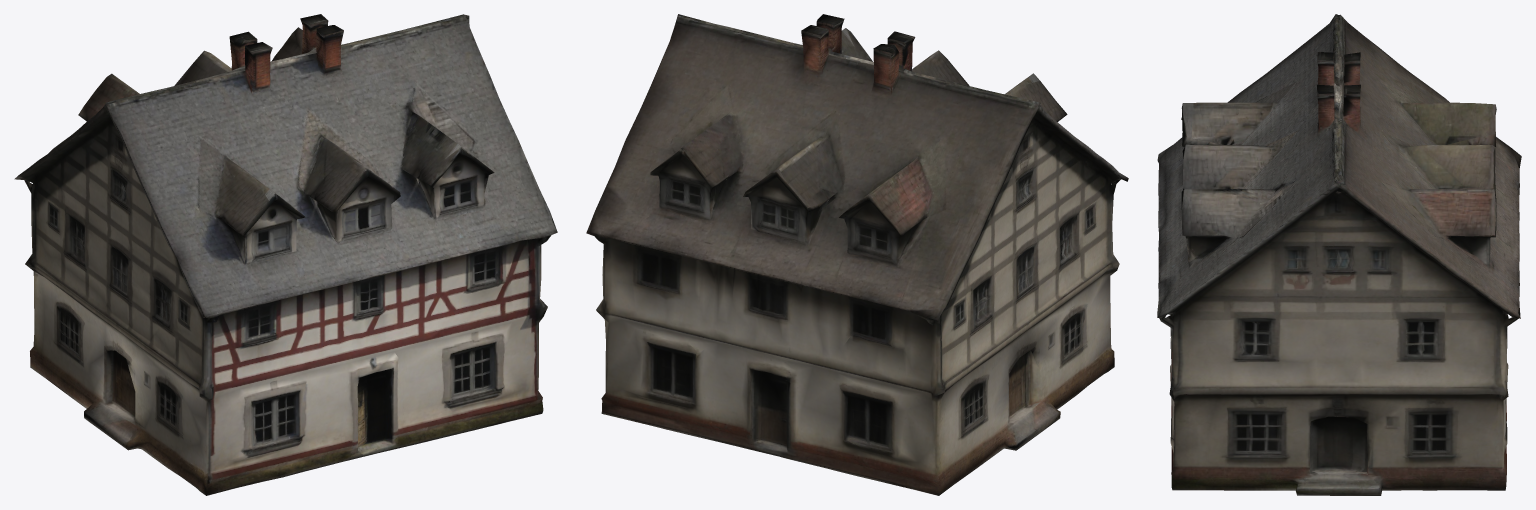
The model's file is ww2_german_building_0403233738.fbx.
The picture shows the model from 3 angles, left to right: view 1: azimuth 30°, elevation 25°; view 2: azimuth 150°, elevation 25°; view 3: azimuth 270°, elevation 25°; orthographic projection. The views are drawn at different scales.
Visible parts, largest first — view 1: Mesh_0; view 2: Mesh_0; view 3: Mesh_0.
Part boxes in pixels (box(x1,y1,x2,y2)): Mesh_0: box(14, 14, 557, 495); Mesh_0: box(586, 14, 1128, 495); Mesh_0: box(1157, 14, 1521, 495).
Size of the model in its own units: 201 by 189 by 184.
Materials: 1 (1 with a texture image).
